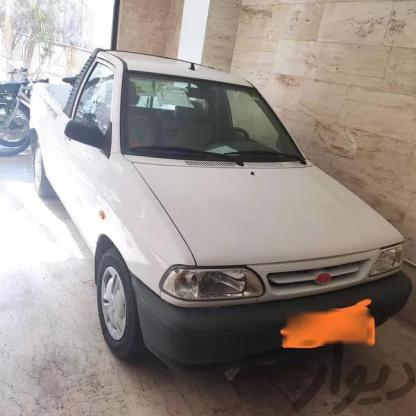Car: (25, 38, 416, 372)
